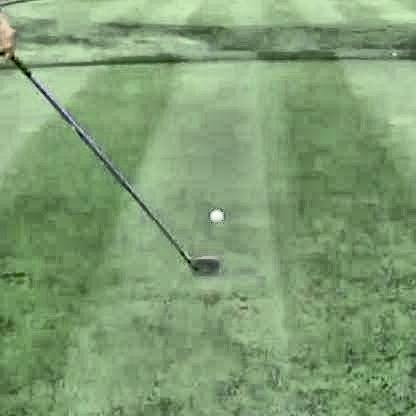golfball: (206, 207, 221, 223)
